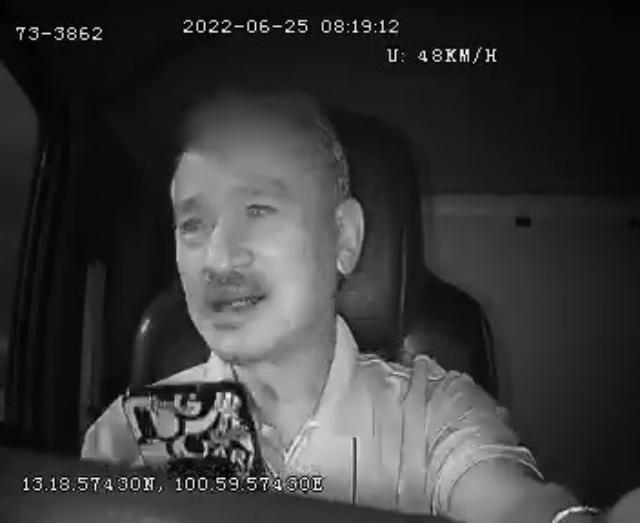PhoneUse: (118, 377, 270, 473)
SafeDriving: (170, 200, 220, 244), (237, 184, 286, 224)
